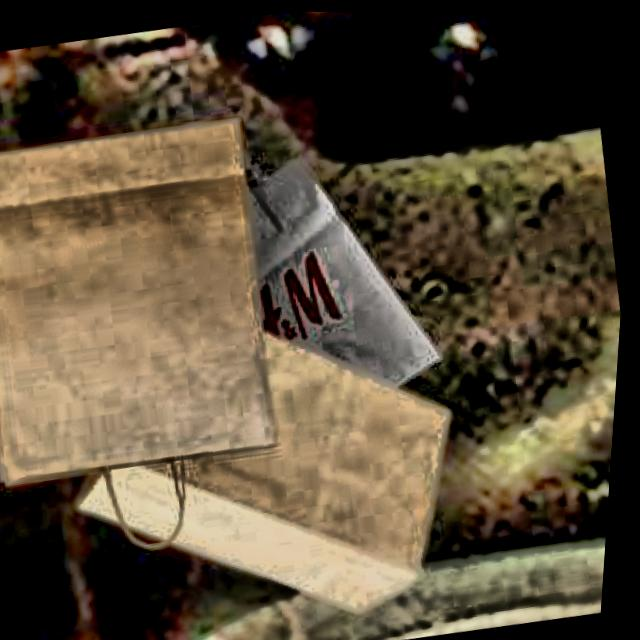Paper-bag: (6, 256, 527, 640), (0, 75, 327, 568), (107, 76, 484, 467)
